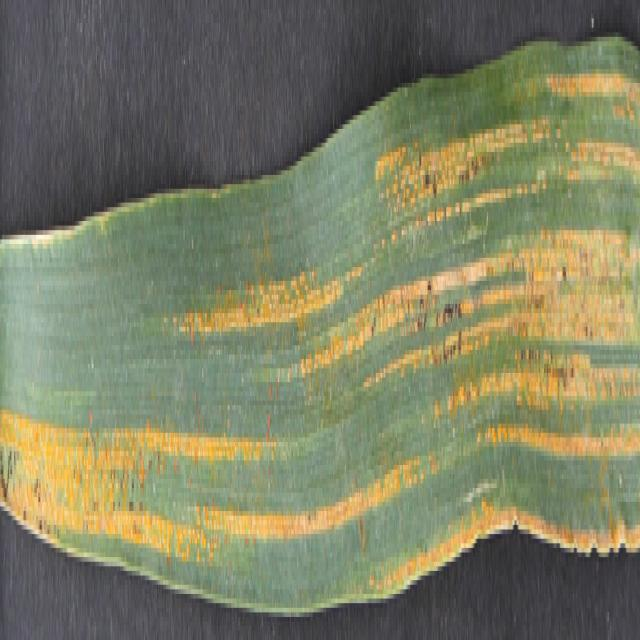leaf rust: (1, 64, 639, 598)
